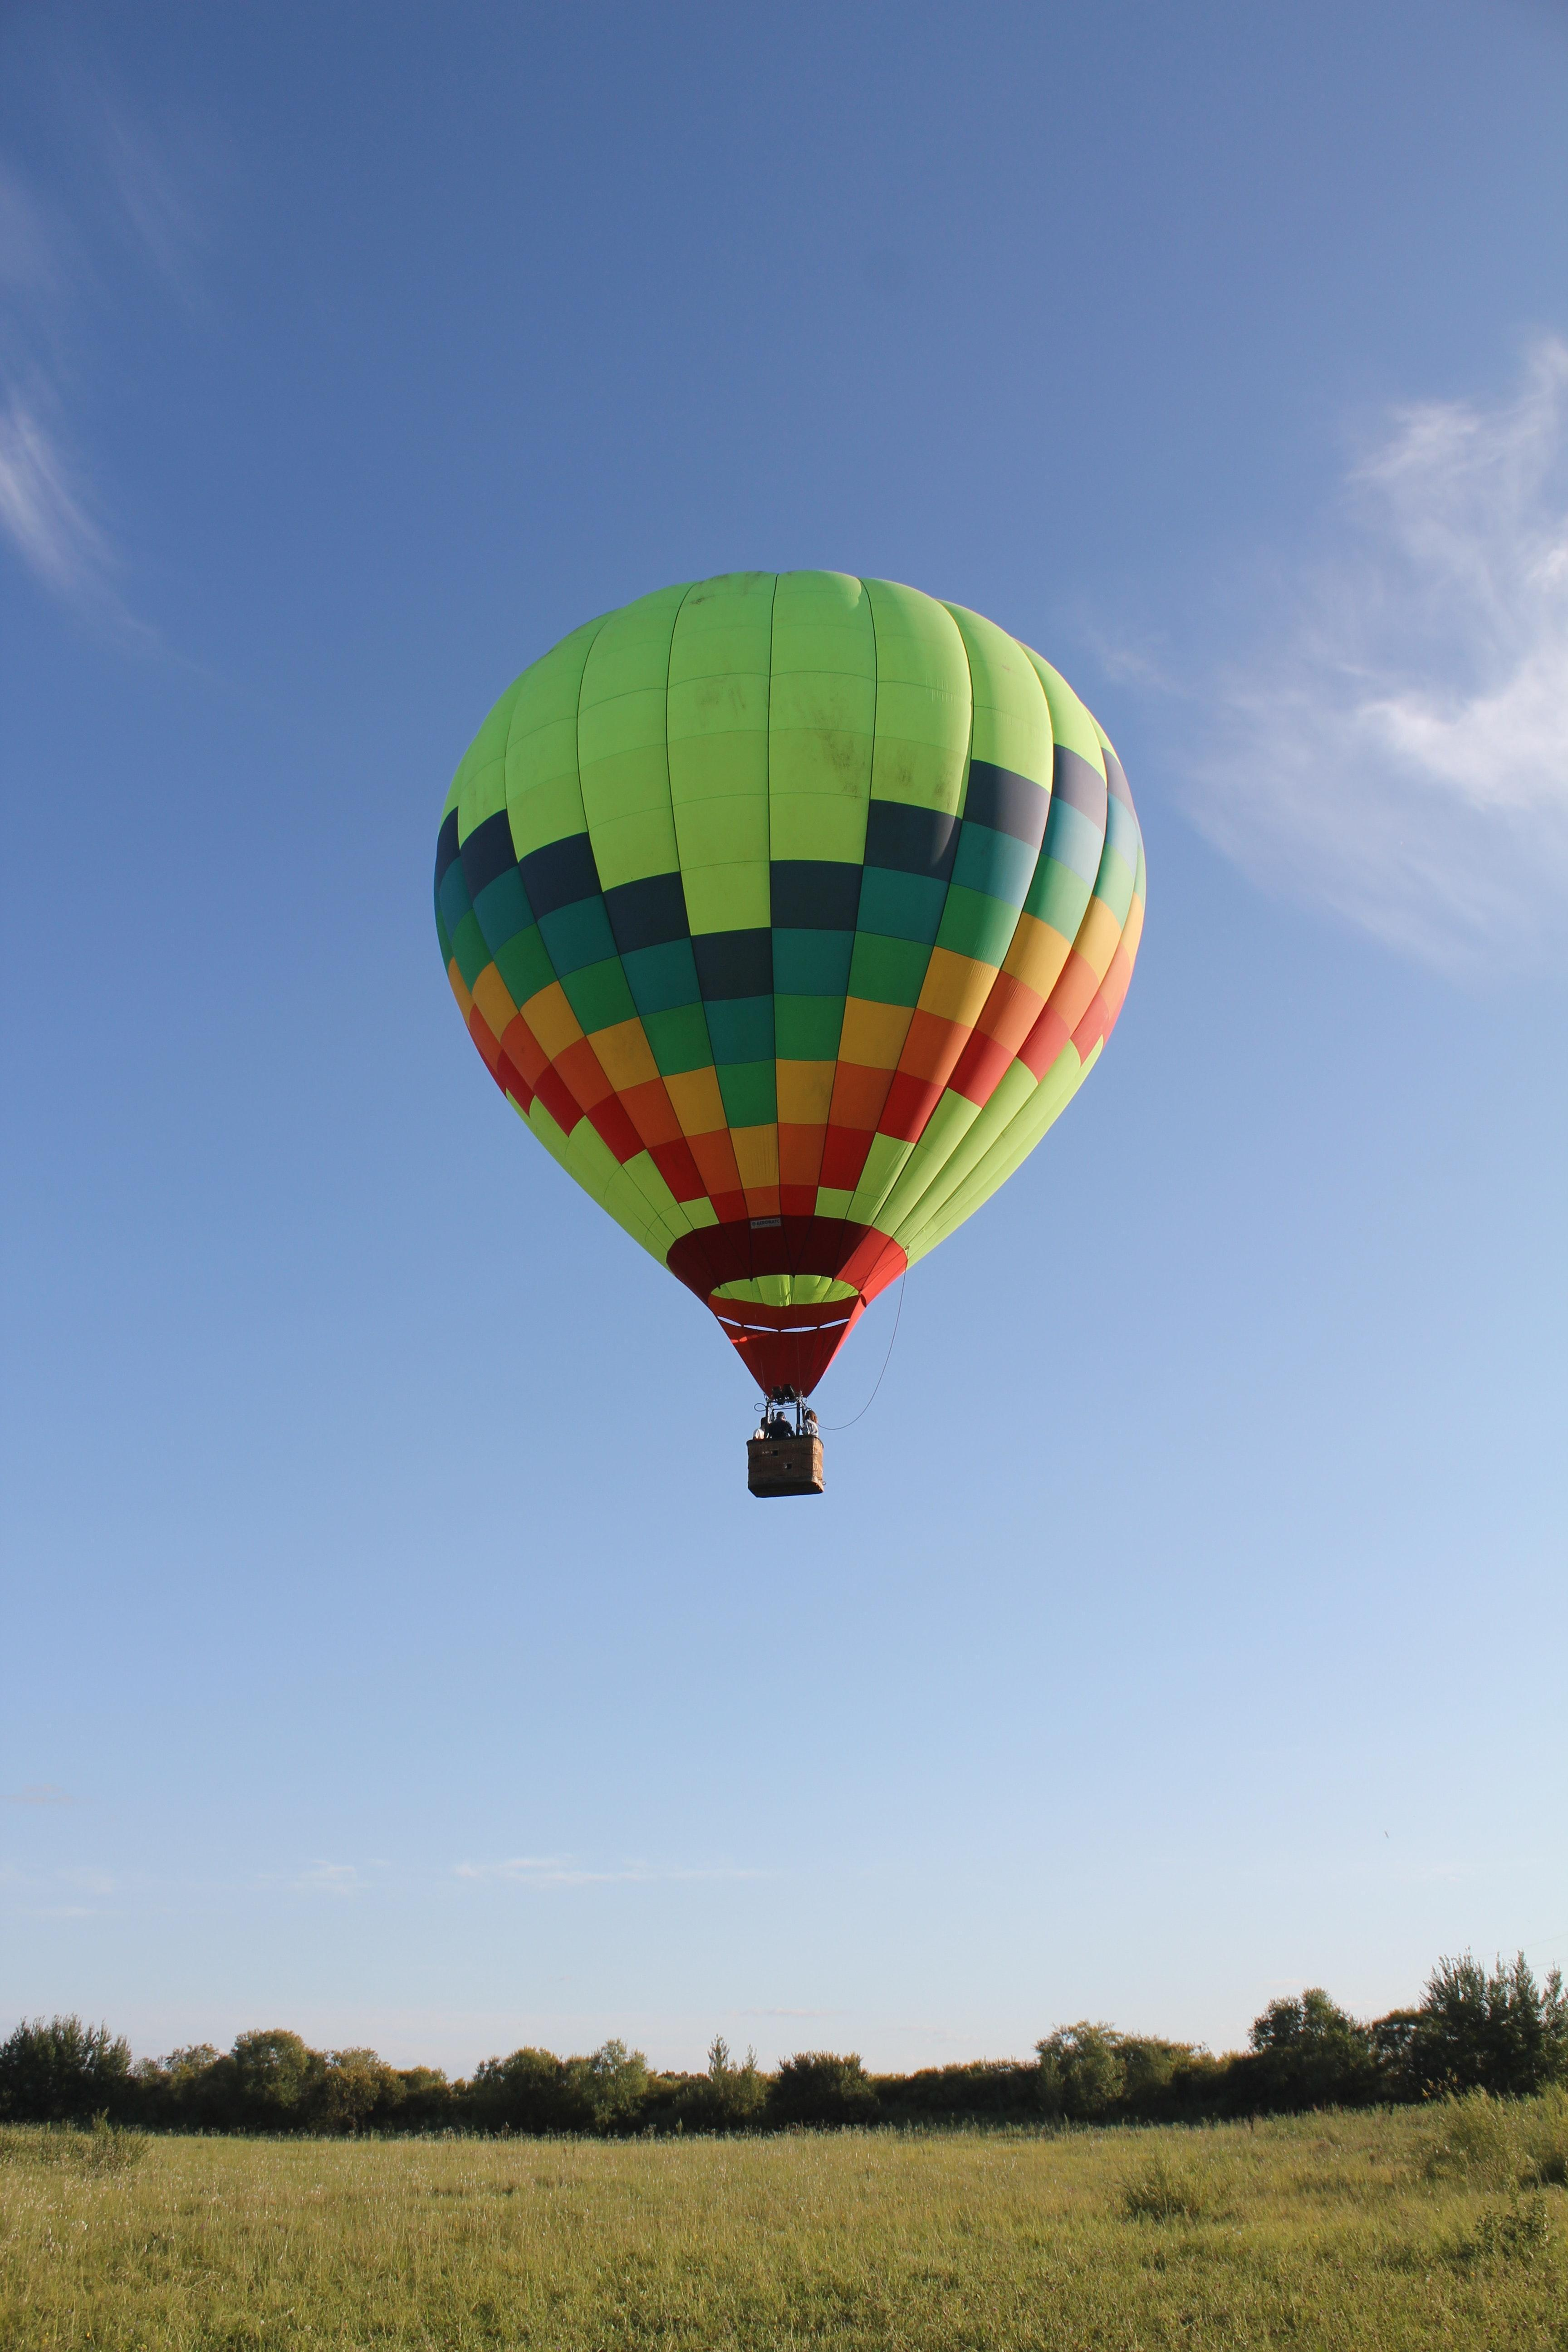hot air ballon: (432, 565, 1150, 1498)
